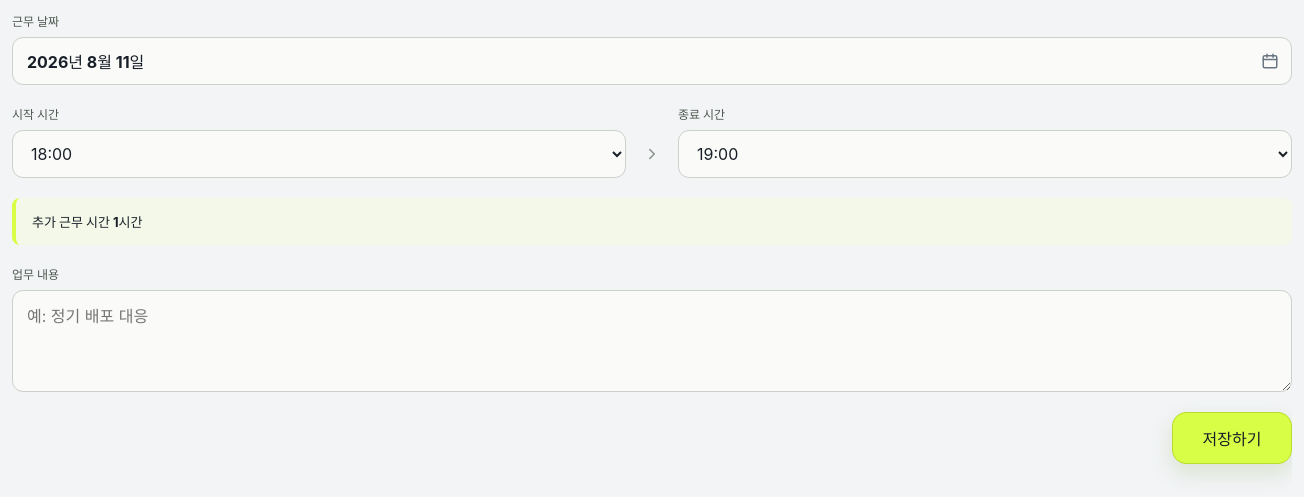
Test case: OvertimeForm › previews time across midnight
Select "22:30" in the dropdown labelled "시작 시간" at (319, 154), box [12,130,626,178]
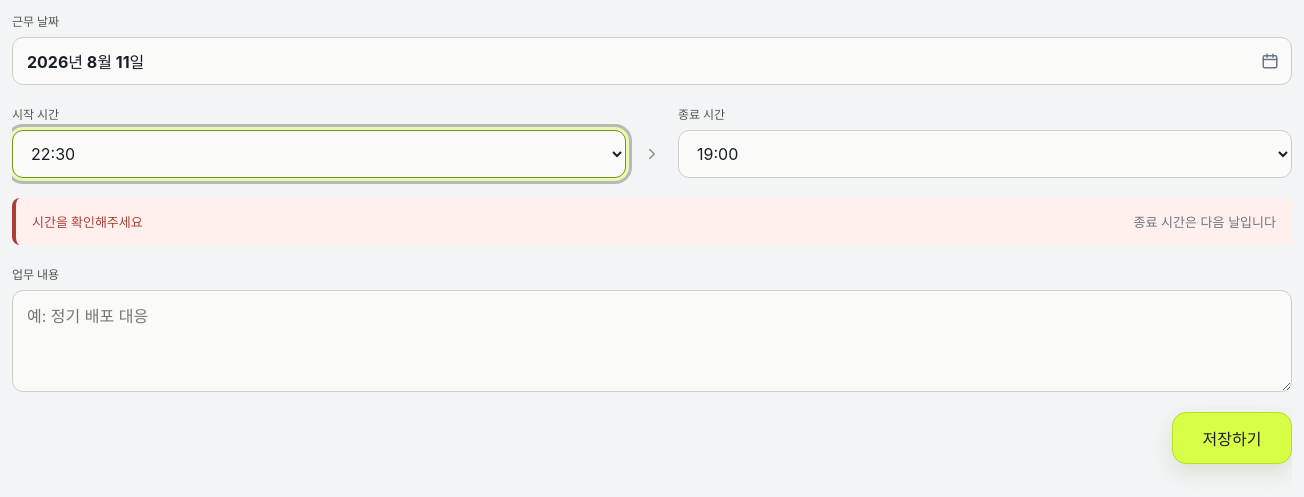
Select "01:00" in the dropdown labelled "종료 시간" at (985, 154), box [678,130,1292,178]
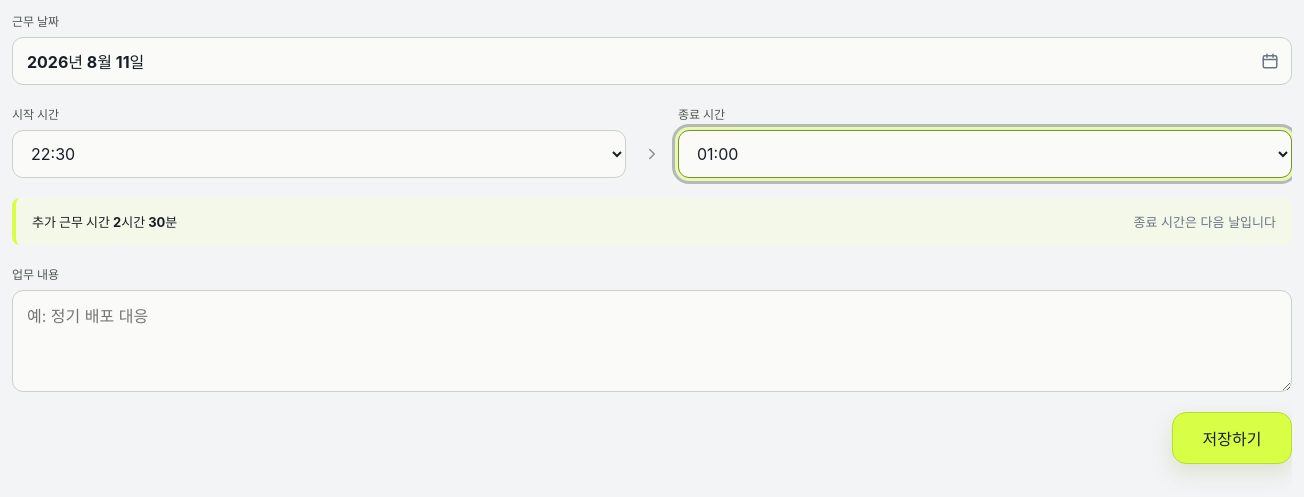
Check: the text "종료 시간은 다음 날입니다" is shown, box [1134,212,1276,231]
Check: the text "추가 근무 시간 2시간 30분" is shown, box [32,212,177,231]
